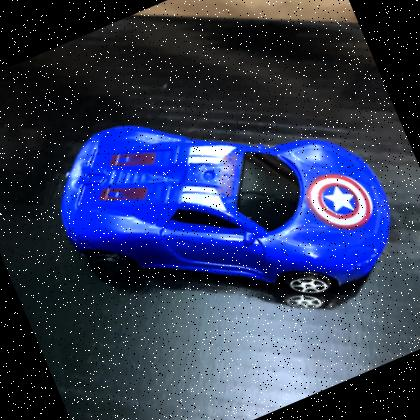Car: (61, 126, 392, 294)
